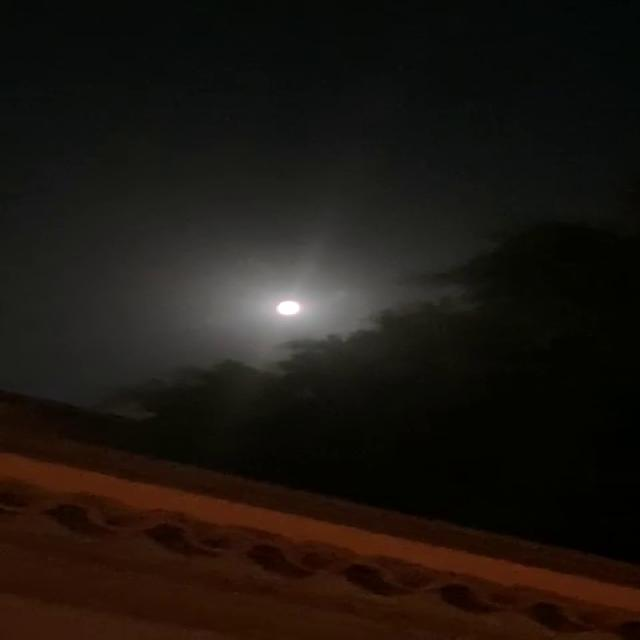moon: (280, 304, 314, 322)
